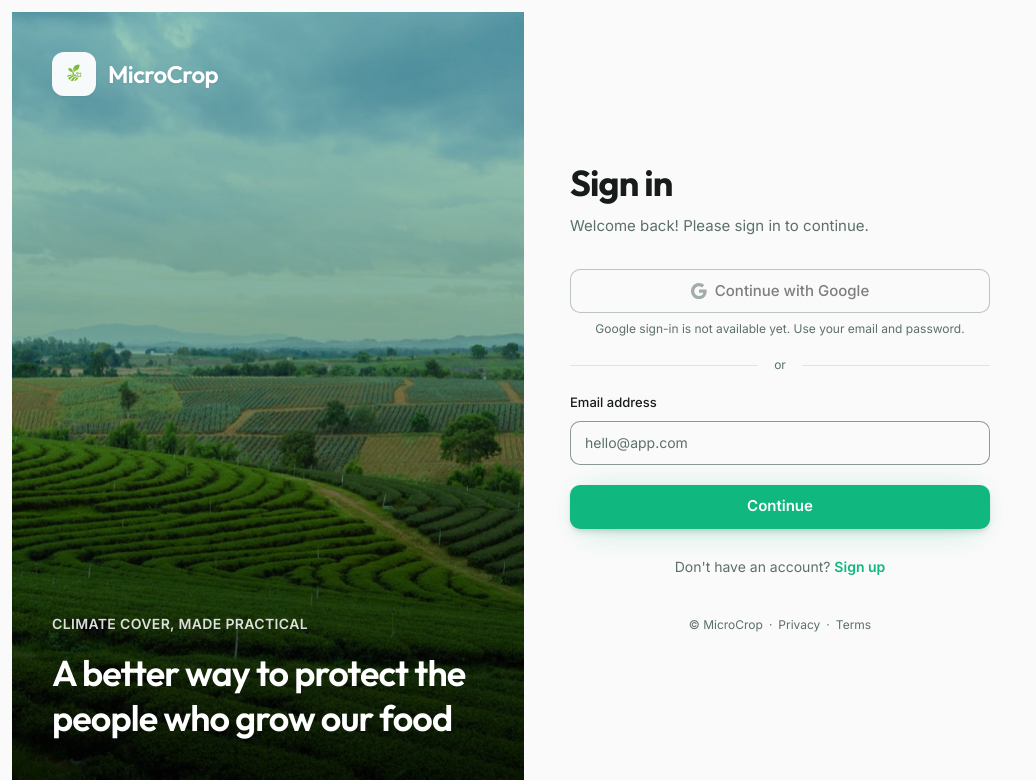
Test case: step two — password › toggles password visibility through a real button that reports its state
Type "partner@acme.co" into the field labelled "Email address" at (780, 442), box [570, 420, 990, 464]
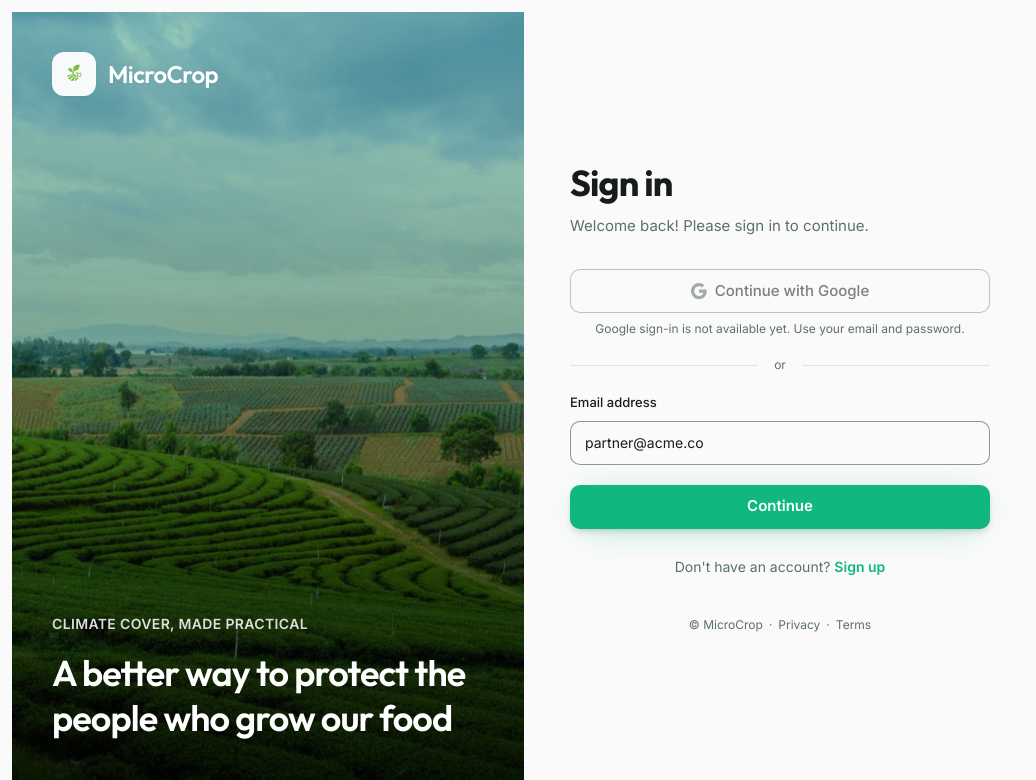
Click the button "Continue" at (780, 506), box [570, 484, 990, 528]
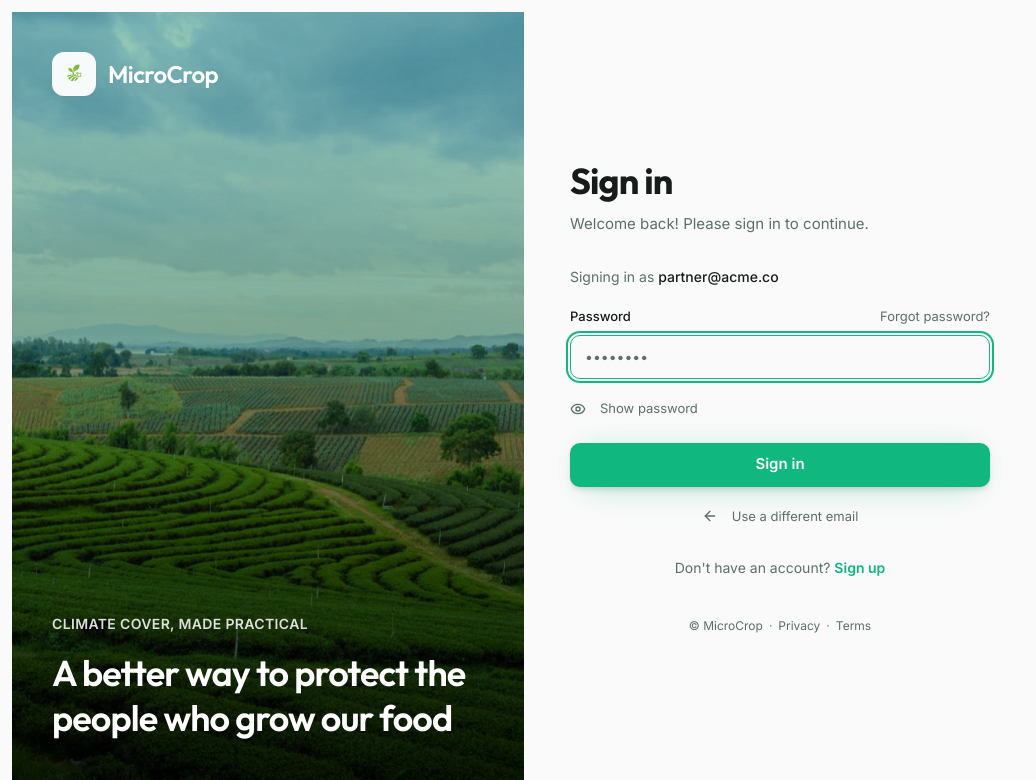
Click the button "Show password" at (634, 409), box [570, 399, 698, 418]
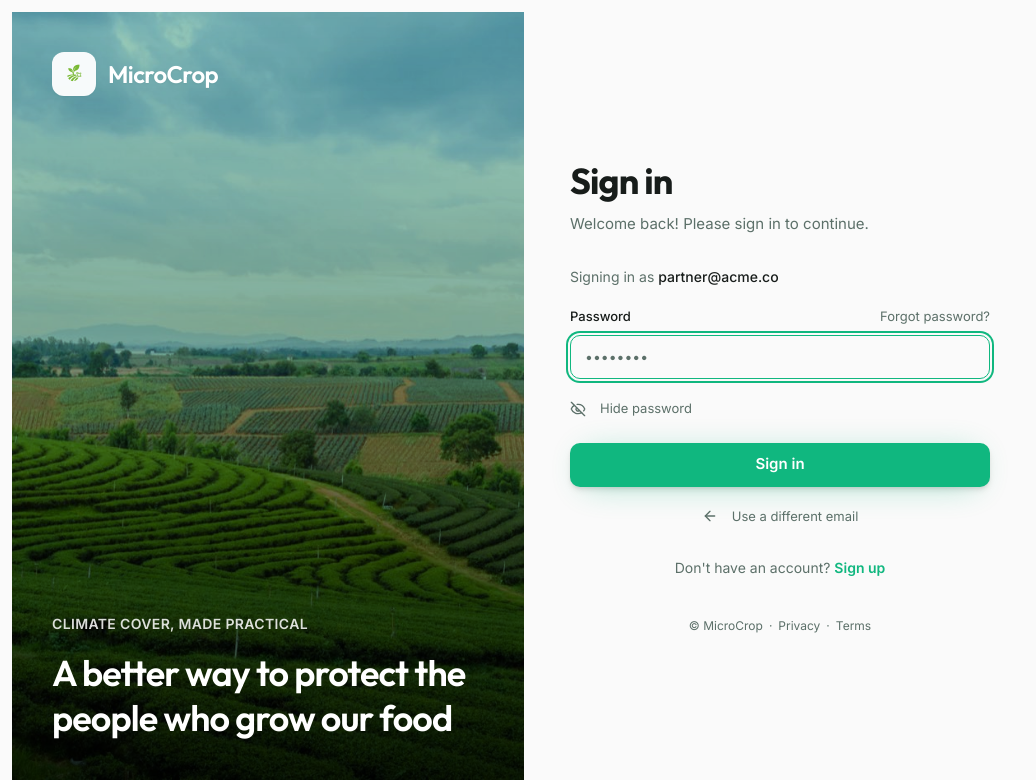
Expected: the button "Hide password" is pressed, [570, 399, 692, 418]
